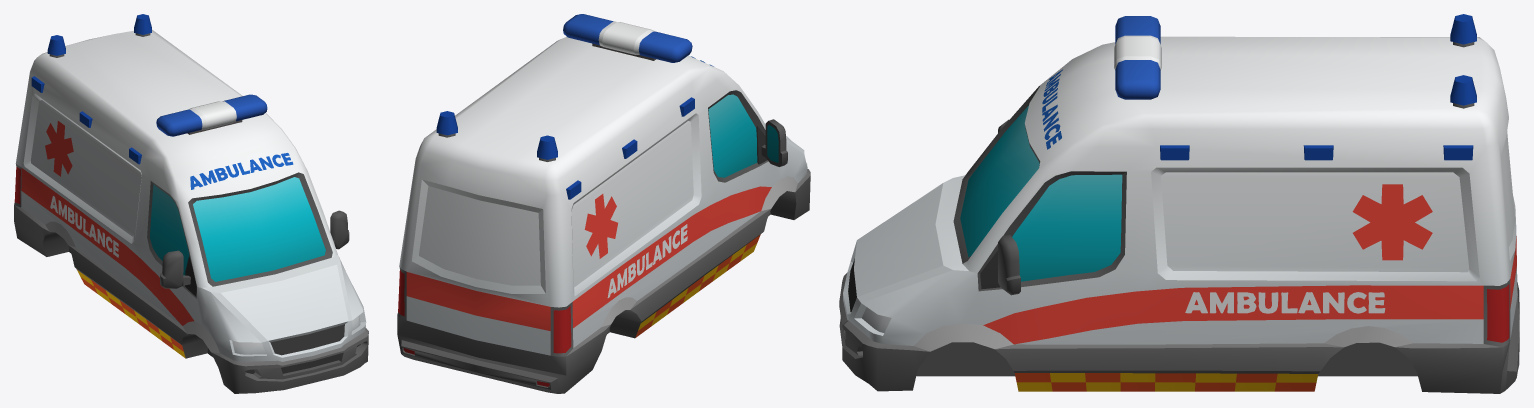
The model's file is ambulance_001.glb.
3 views of the same model, side by side, from view 1: azimuth 30°, elevation 25°; view 2: azimuth 150°, elevation 25°; view 3: azimuth 270°, elevation 25° (orthographic). The views are drawn at different scales.
Parts seen in each view (by area): view 1: ambulance_001; view 2: ambulance_001; view 3: ambulance_001.
Boxes of the visible parts, x1,y1,x2,y2 form: ambulance_001: (14,14,368,393); ambulance_001: (397,14,810,393); ambulance_001: (839,14,1519,393).
Bounding box in the file's own units: 3.04 × 3.16 × 6.55.
Materials: 2 (2 with a texture image).
